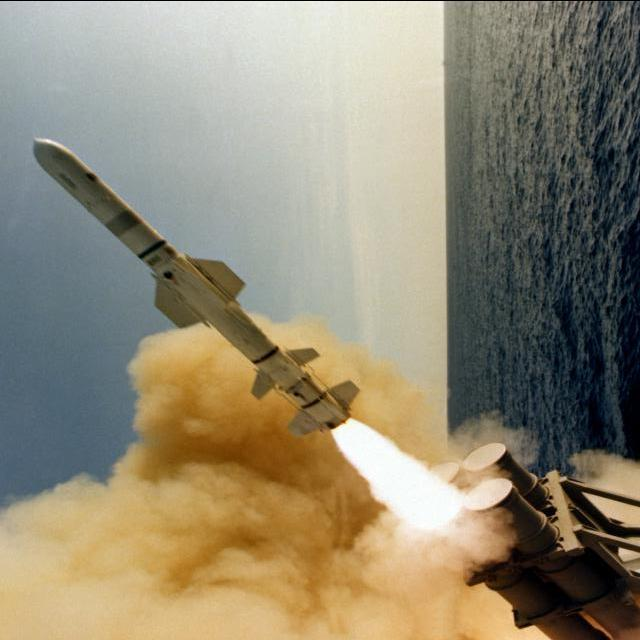missile: (10, 129, 369, 458)
